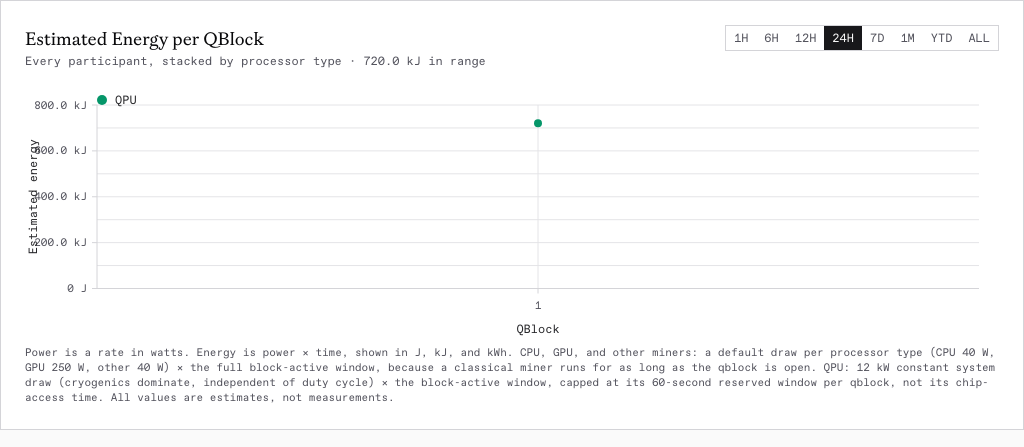
it: EnergyPerQblockCard › replaces retained estimates with an error and hides the total after a range fetch fails
Expected: the element with test id "chart-energy-per-qblock" is shown, [25,85,999,336]
Click the button "1H": click(741, 38) [726,26,756,50]
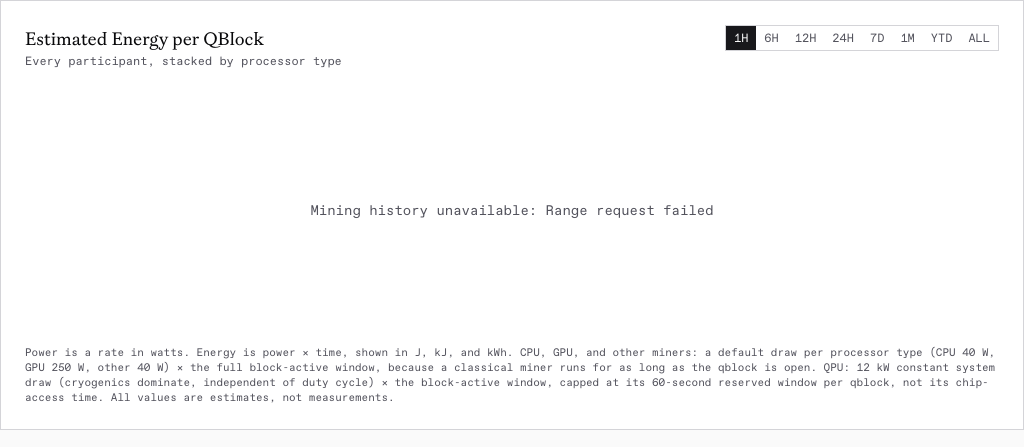
Expected: the text "Mining history unavailable: Range request failed" is shown, [310,202,714,219]
Expected: the element with test id "chart-energy-per-qblock" is gone
Expected: the text "in range" is gone
